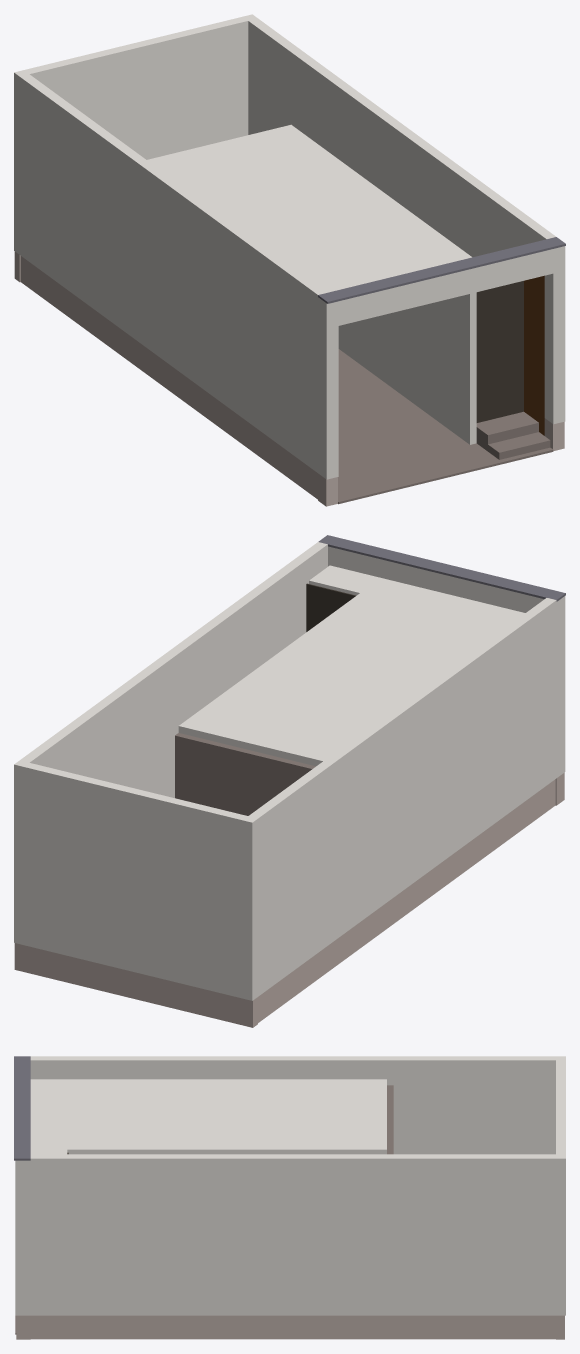
File: SM_Floor_NarrowGarageWide_364_01.gltf
3 views of the same model, one above another, from view 1: azimuth 30°, elevation 25°; view 2: azimuth 150°, elevation 25°; view 3: azimuth 270°, elevation 25° (orthographic). The views are drawn at different scales.
Parts seen in each view (by area): view 1: SM_Floor_NarrowGarageWide_364_01; view 2: SM_Floor_NarrowGarageWide_364_01; view 3: SM_Floor_NarrowGarageWide_364_01.
Part boxes in pixels (box(x1,y1,x2,y2)): SM_Floor_NarrowGarageWide_364_01: box(14, 14, 565, 506); SM_Floor_NarrowGarageWide_364_01: box(14, 535, 565, 1027); SM_Floor_NarrowGarageWide_364_01: box(14, 1056, 565, 1339).
Bounding box in the file's own units: 3.64 × 3 × 8.29.
1 material, 1 textured.
